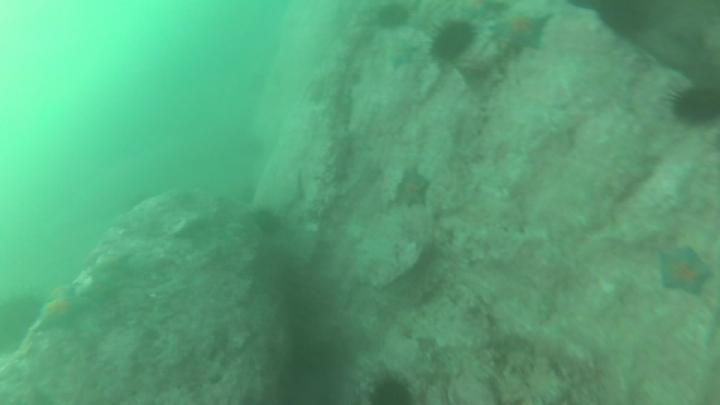echinus: (425, 18, 481, 67), (663, 84, 720, 127), (596, 1, 652, 41), (362, 372, 416, 405), (375, 1, 413, 35), (248, 209, 285, 238)
starfish: (652, 241, 715, 300), (35, 281, 96, 335), (488, 12, 553, 55), (394, 171, 433, 211), (385, 37, 422, 74)
